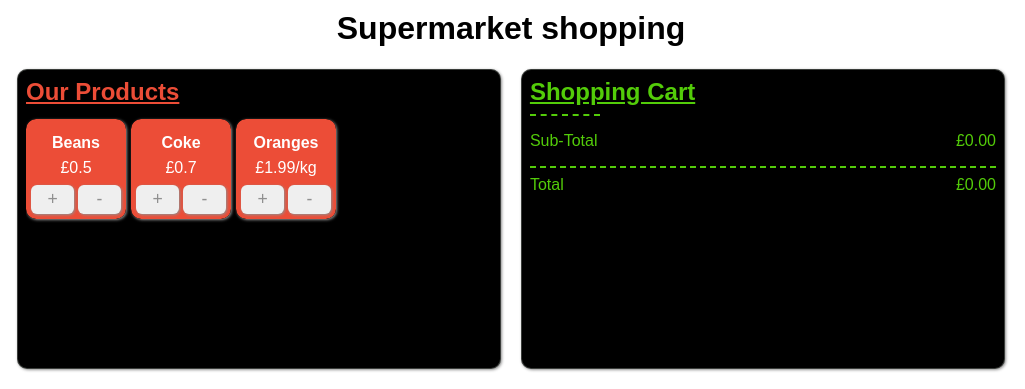
Test case: Given a shopping page, it › When rendering the product list section, it › And adding a product three times, it › should render a sub-total of the products added
What coordinates should you click on to do the following:
click the button "+" below "£0.5"
I would click on:
 (53, 199)
Its box is x1=31 y1=184 x2=74 y2=214.
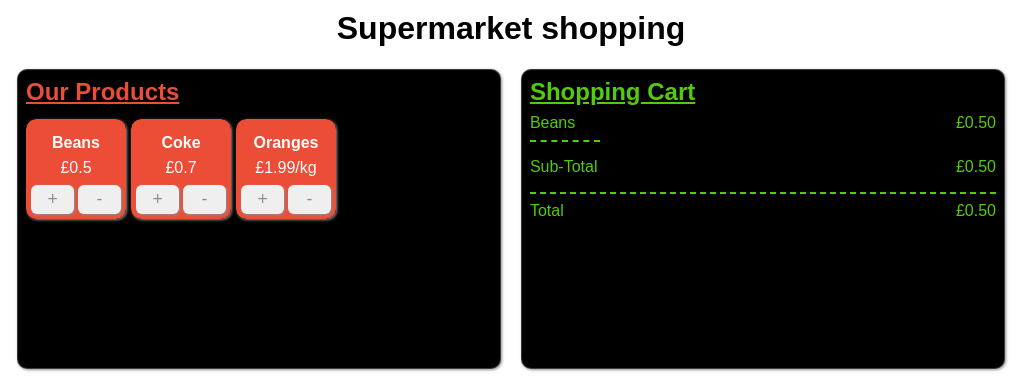
What coordinates should you click on to do the following:
click the 1st button "+"
I would click on:
 (53, 199)
Its box is x1=31 y1=184 x2=74 y2=214.
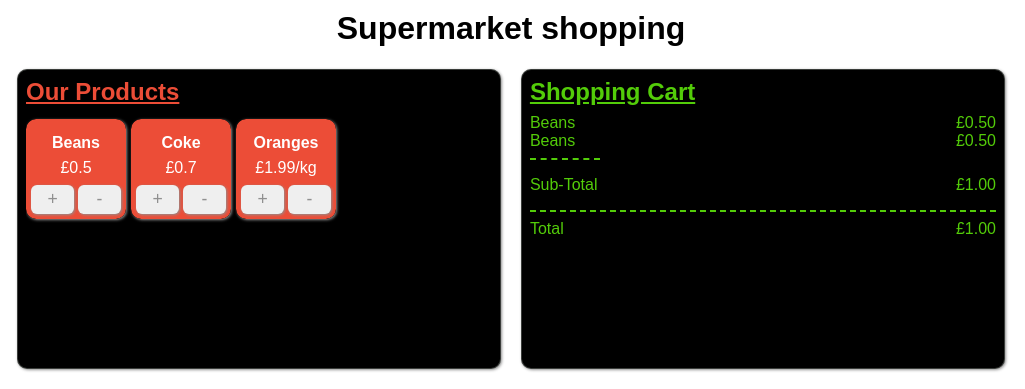
Expected: the text "Beans" is shown 2 times, x1=530 y1=114 x2=575 y2=132; x1=530 y1=132 x2=575 y2=150
